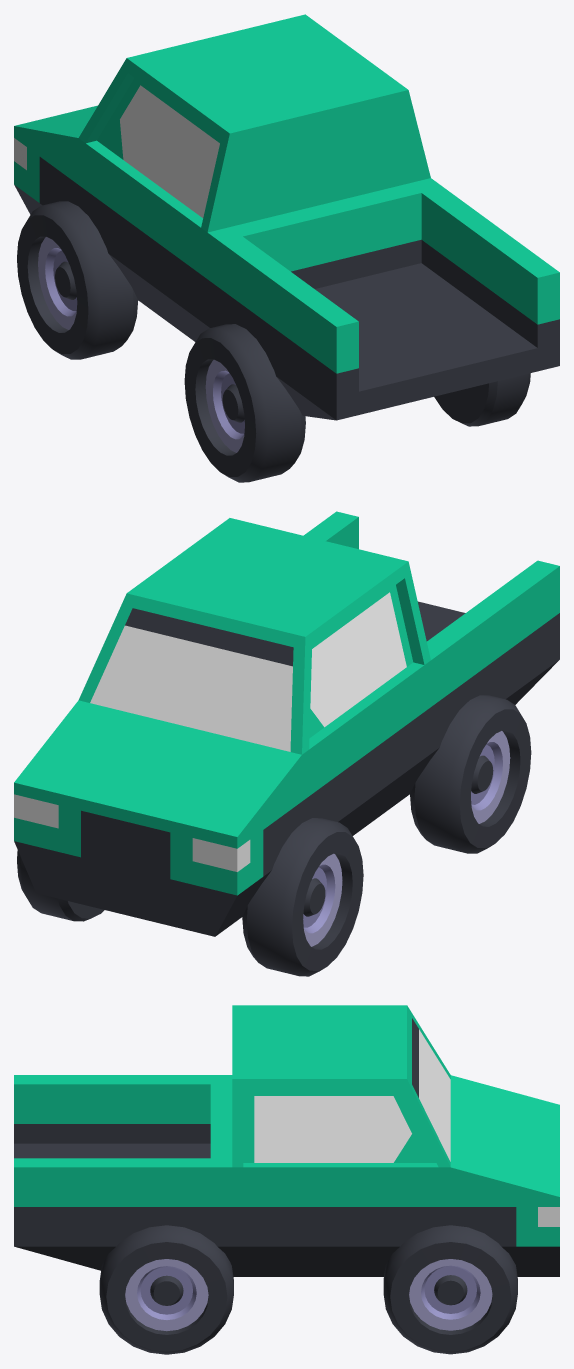
File: green-truck.glb
The picture shows the model from 3 angles, top to bottom: view 1: azimuth 30°, elevation 25°; view 2: azimuth 150°, elevation 25°; view 3: azimuth 270°, elevation 25°; orthographic projection. The views are drawn at different scales.
Parts seen in each view (by area): view 1: mergedBlocks(Clone); view 2: mergedBlocks(Clone); view 3: mergedBlocks(Clone).
Boxes of the visible parts, left/top/right/bottom form: mergedBlocks(Clone): left=14, top=14, right=559, bottom=482; mergedBlocks(Clone): left=14, top=511, right=559, bottom=976; mergedBlocks(Clone): left=14, top=1005, right=559, bottom=1354.
Bounding box in the file's own units: 1.23 × 1.31 × 2.5.
